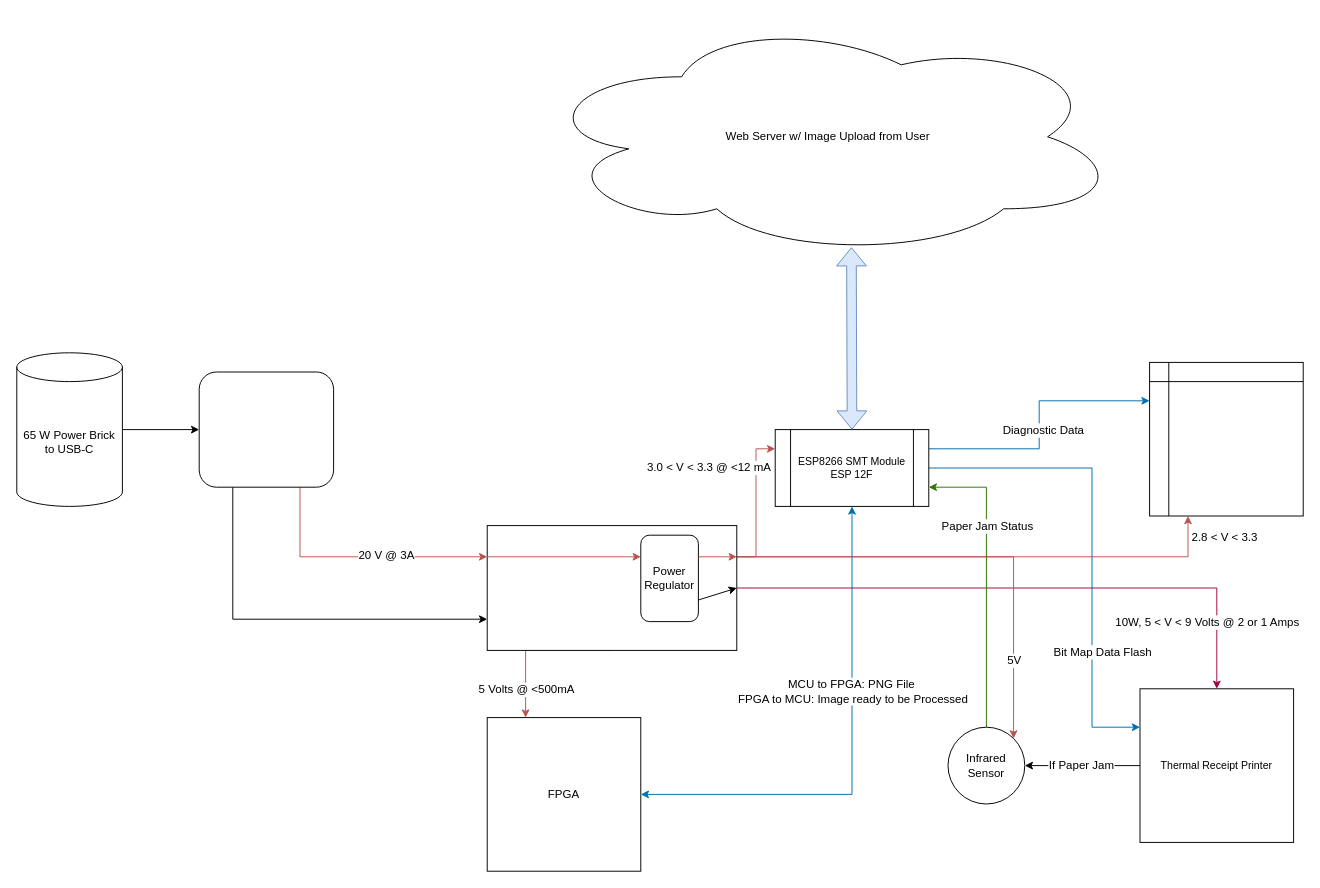
This 1320x888 diagram has some shape labels left out. The shapes that lost their labels are listed below. From the top down, each one's box as (x1, y1, x2, y2) in pixels, then its label:
(198, 371, 334, 487): USB C
(1149, 361, 1303, 516): LCD
(486, 525, 737, 650): Battery
